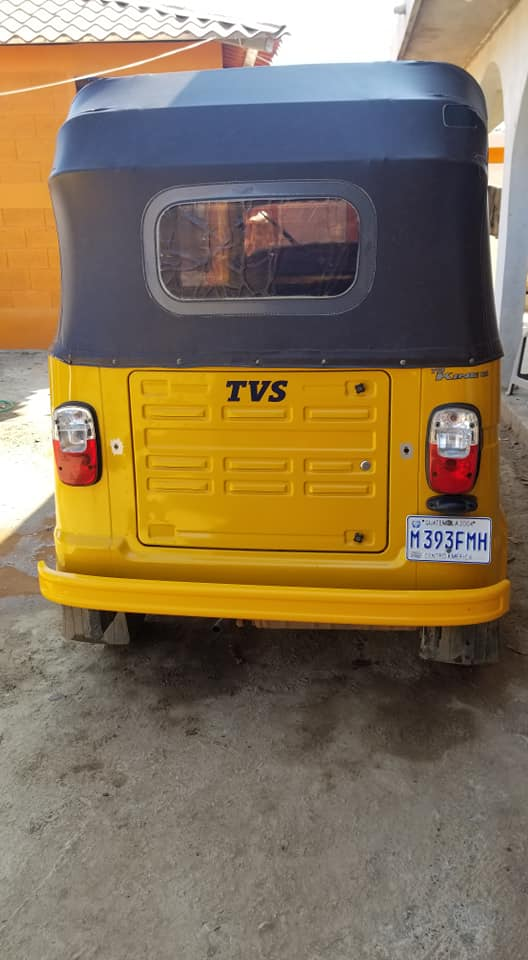mototaxi: (47, 68, 512, 687)
